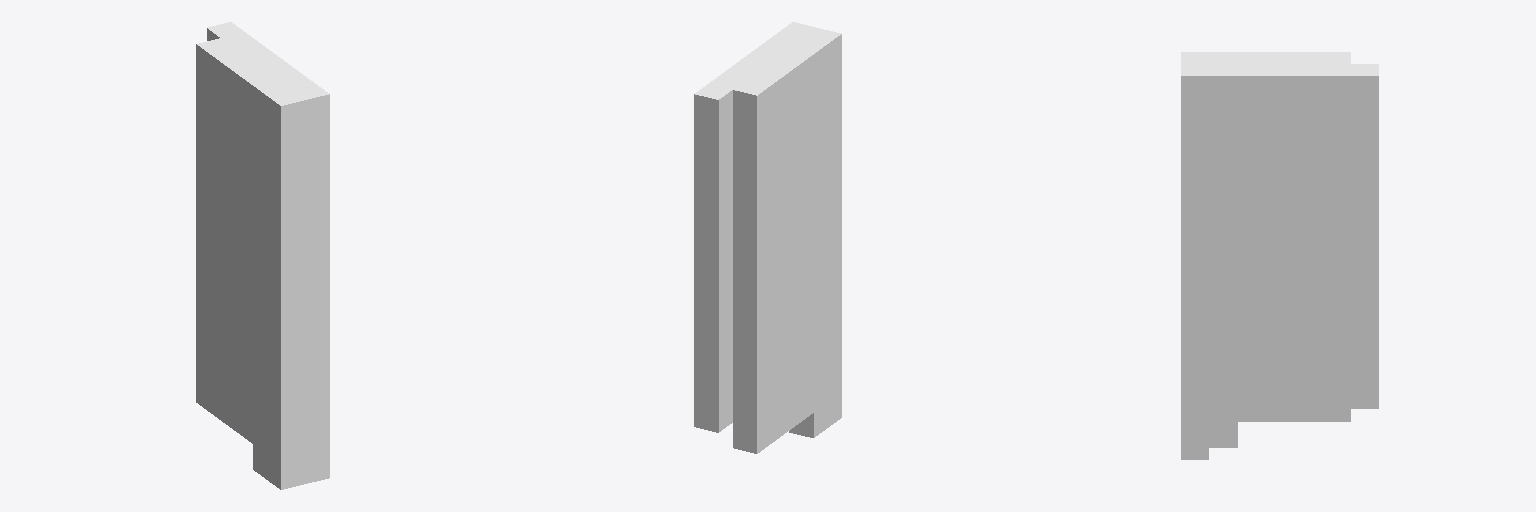
File: Bentley-1.obj
3 views of the same model, side by side, from view 1: azimuth 30°, elevation 25°; view 2: azimuth 150°, elevation 25°; view 3: azimuth 270°, elevation 25° (orthographic).
Parts seen in each view (by area): view 1: object 1; view 2: object 1; view 3: object 1.
Part boxes in pixels (x1,y1,x2,y2): object 1: (196, 22, 329, 489); object 1: (694, 22, 841, 453); object 1: (1181, 52, 1378, 459).
Bounding box in the file's own units: 2 × 15 × 7.